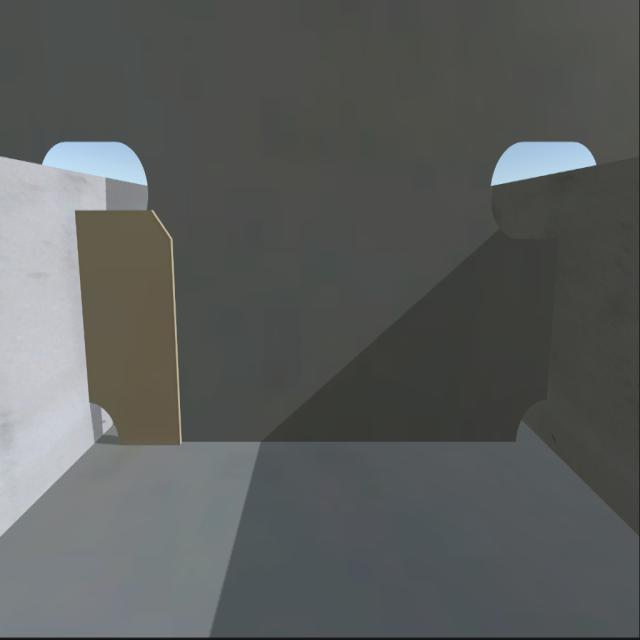fillet_hole: (516, 400, 550, 444), (88, 402, 121, 447)
fillet_yong_jeop_jang: (125, 432, 510, 450)
longi_yong_jeop_jang: (82, 209, 95, 404), (542, 249, 552, 393)
plate_CP03: (81, 204, 174, 428)
